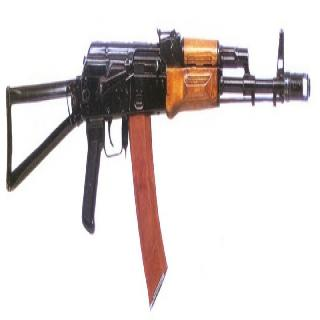gun: (3, 9, 311, 312)
